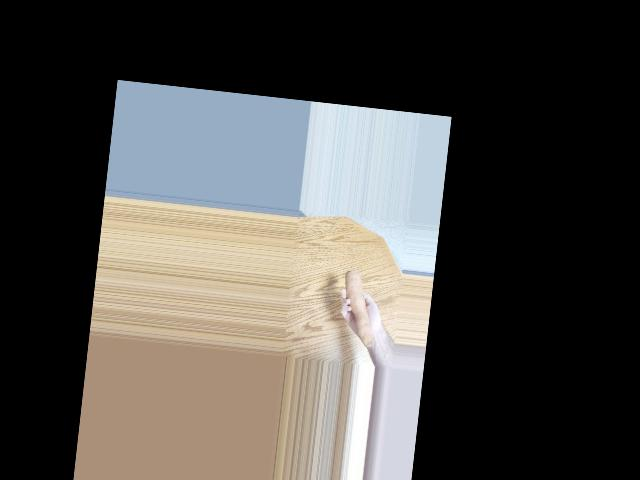sweet_potato: (336, 268, 380, 346)
